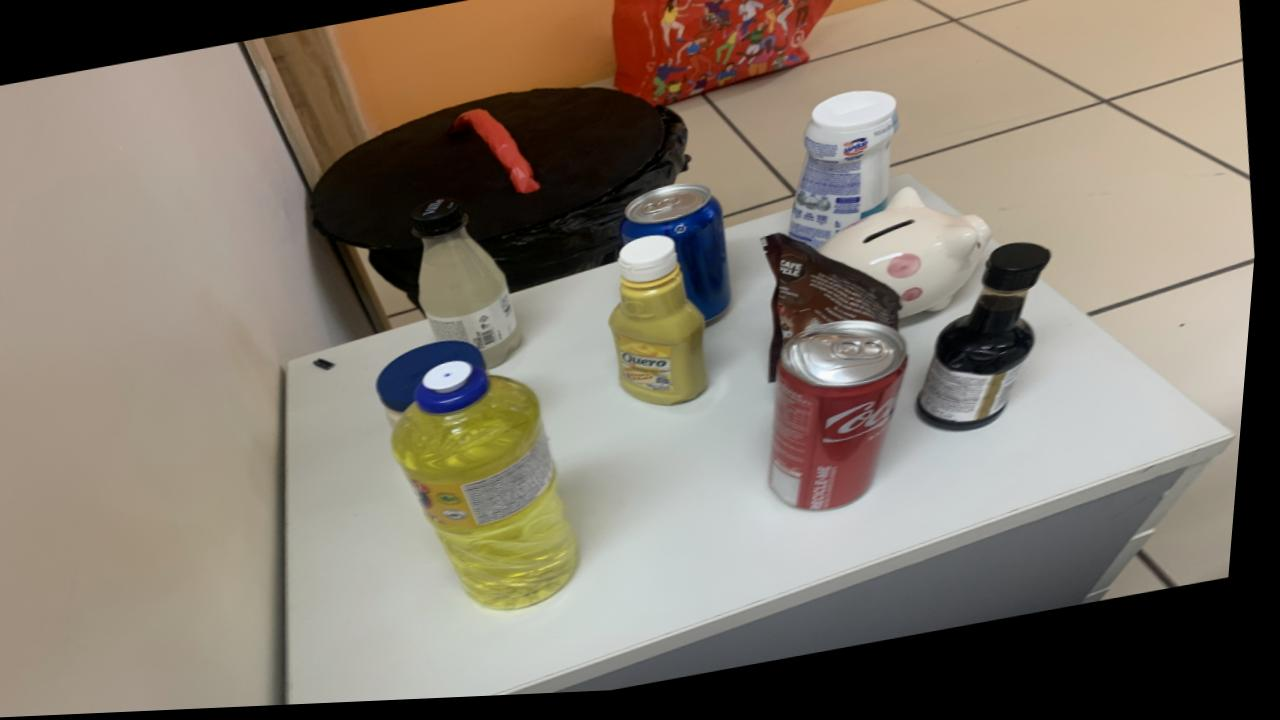Cleaner-Cleanup_Items: (793, 98, 900, 256)
Coffee-Pantry_Items: (767, 240, 906, 390)
Coke-Drinks: (779, 327, 913, 517)
Detergent-Cleanup_Items: (399, 364, 589, 614)
English_Sauce-Pantry_Items: (924, 252, 1055, 440)
Mayonnaise-Pantry_Items: (383, 344, 490, 432)
Mustard-Pantry_Items: (614, 241, 715, 411)
Pig_Safe-Miscellaneous: (823, 195, 997, 326)
Soda-Drinks: (415, 201, 527, 372)
Tonic-Drinks: (624, 190, 736, 328)
